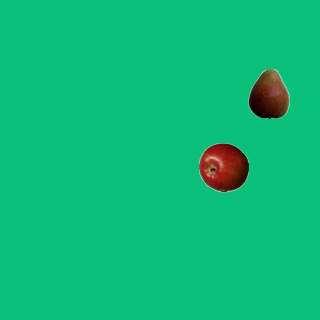Apple Braeburn: (198, 142, 248, 192)
Pear Forelle: (243, 68, 293, 118)
